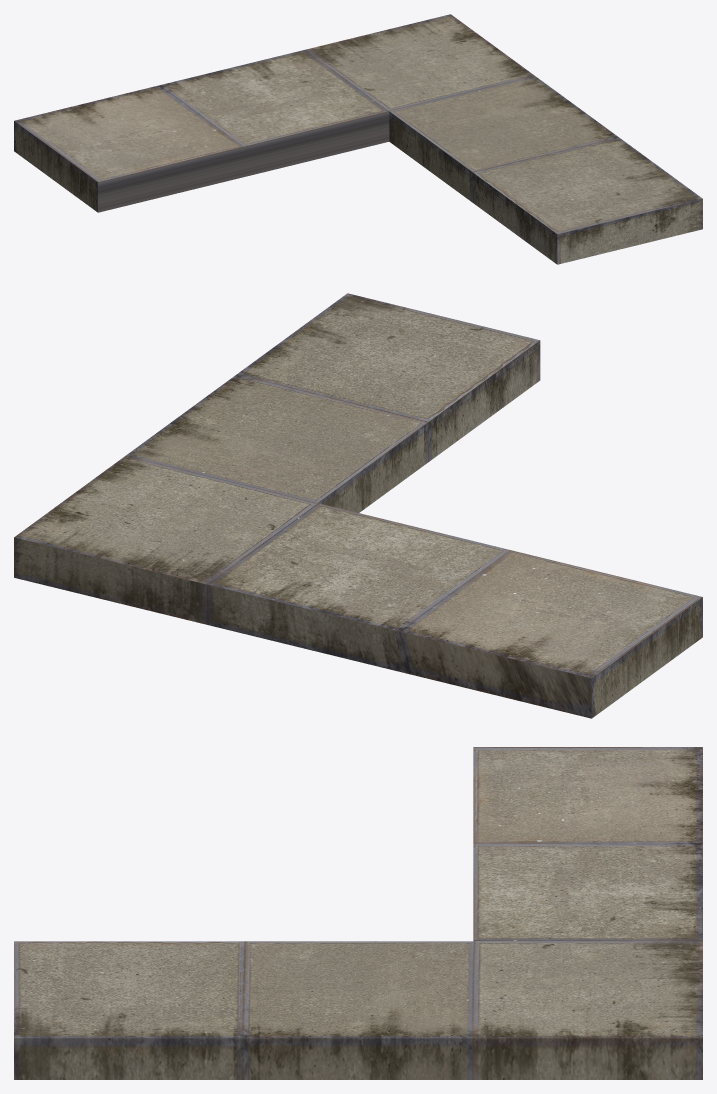
The model's file is Floor_Concrete01_Corner.FBX.
3 views of the same model, one above another, from view 1: azimuth 30°, elevation 25°; view 2: azimuth 150°, elevation 25°; view 3: azimuth 270°, elevation 25° (orthographic). The views are drawn at different scales.
Parts seen in each view (by area): view 1: Floor_Concrete01_Corner; view 2: Floor_Concrete01_Corner; view 3: Floor_Concrete01_Corner.
Boxes of the visible parts, x1,y1,x2,y2 form: Floor_Concrete01_Corner: (14,14,702,264); Floor_Concrete01_Corner: (14,293,702,718); Floor_Concrete01_Corner: (14,747,702,1079).
Size of the model in its own units: 3 by 0.2 by 3.
